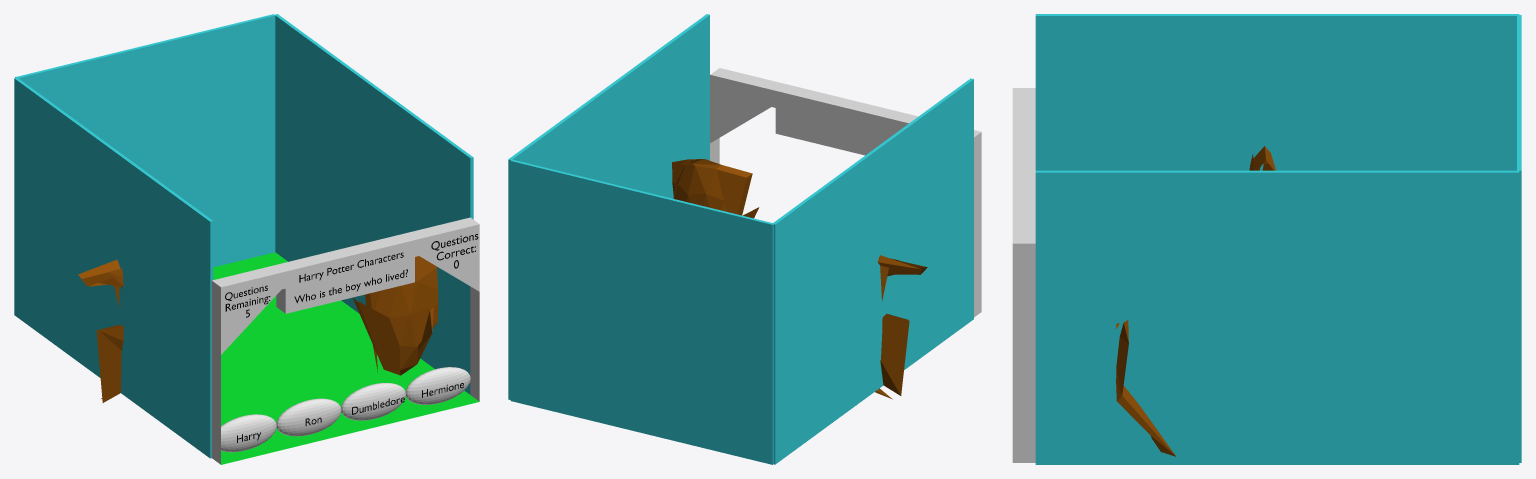
File: arch_with_question.fbx
The picture shows the model from 3 angles, left to right: view 1: azimuth 30°, elevation 25°; view 2: azimuth 150°, elevation 25°; view 3: azimuth 270°, elevation 25°; orthographic projection. The views are drawn at different scales.
Parts seen in each view (by area): view 1: Left, Right, Background, Floor, Obstacle_right, Title_Pane, Triangle_Left, Question Pane, Triangle_Right, Obstacle_left, Option2, Option3 (+4 smaller); view 2: Background, Left, Right, Title_Pane, Triangle_Right, Obstacle_right, Question Pane, Obstacle_left, Wall_Left, Triangle_Left; view 3: Right, Left, Wall_Right, Triangle_Right, Title_Pane, Background, Obstacle_right, Triangle_Left.
Boxes of the visible parts, x1,y1,x2,y2 form: Left: (14, 77, 213, 458); Right: (275, 14, 473, 394); Background: (15, 14, 275, 267); Floor: (213, 252, 479, 464); Obstacle_right: (353, 256, 438, 375); Title_Pane: (215, 218, 479, 303); Triangle_Left: (211, 261, 301, 354); Question Pane: (276, 257, 414, 313); Triangle_Right: (390, 217, 479, 291); Obstacle_left: (78, 259, 123, 402); Option2: (276, 398, 341, 436); Option3: (341, 383, 405, 420); Background: (510, 159, 773, 464); Left: (773, 78, 973, 464); Right: (508, 14, 709, 399); Title_Pane: (710, 68, 981, 137); Triangle_Right: (710, 68, 800, 143); Obstacle_right: (672, 159, 759, 218); Question Pane: (775, 108, 891, 155); Obstacle_left: (875, 255, 927, 399); Wall_Left: (974, 201, 981, 317); Triangle_Left: (890, 112, 981, 205); Right: (1035, 170, 1519, 464); Left: (1035, 14, 1519, 170); Wall_Right: (1012, 327, 1035, 462); Triangle_Right: (1012, 195, 1035, 327); Title_Pane: (1012, 88, 1035, 264); Background: (1517, 15, 1521, 462); Obstacle_right: (1116, 320, 1176, 456); Triangle_Left: (1012, 88, 1035, 136).
Size of the model in its own units: 2022 by 1437 by 2220.
